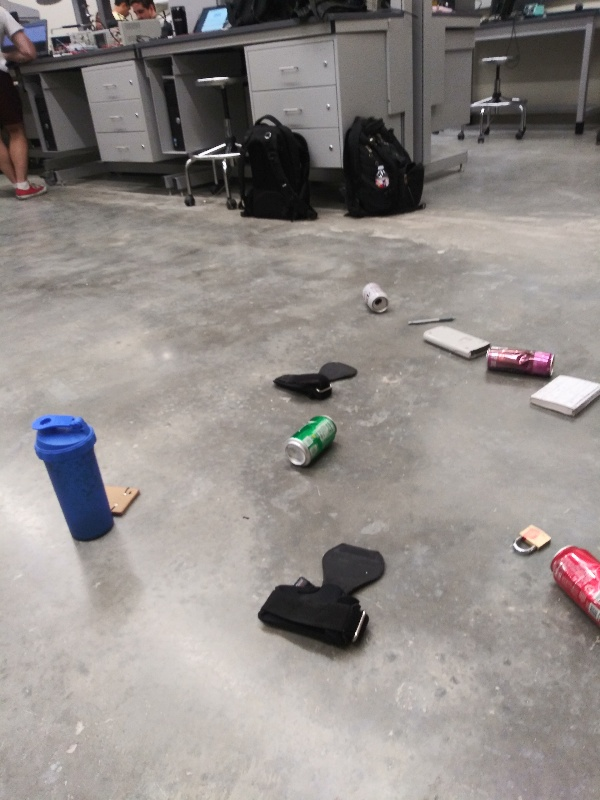can: (545, 539, 600, 626), (275, 411, 344, 468), (481, 343, 558, 381), (358, 277, 398, 319)
